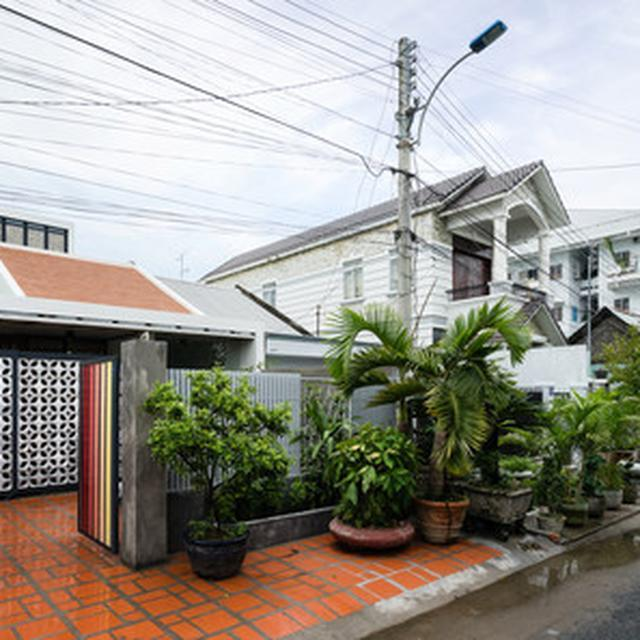building: (0, 235, 306, 514), (202, 158, 570, 376), (536, 194, 640, 360)
